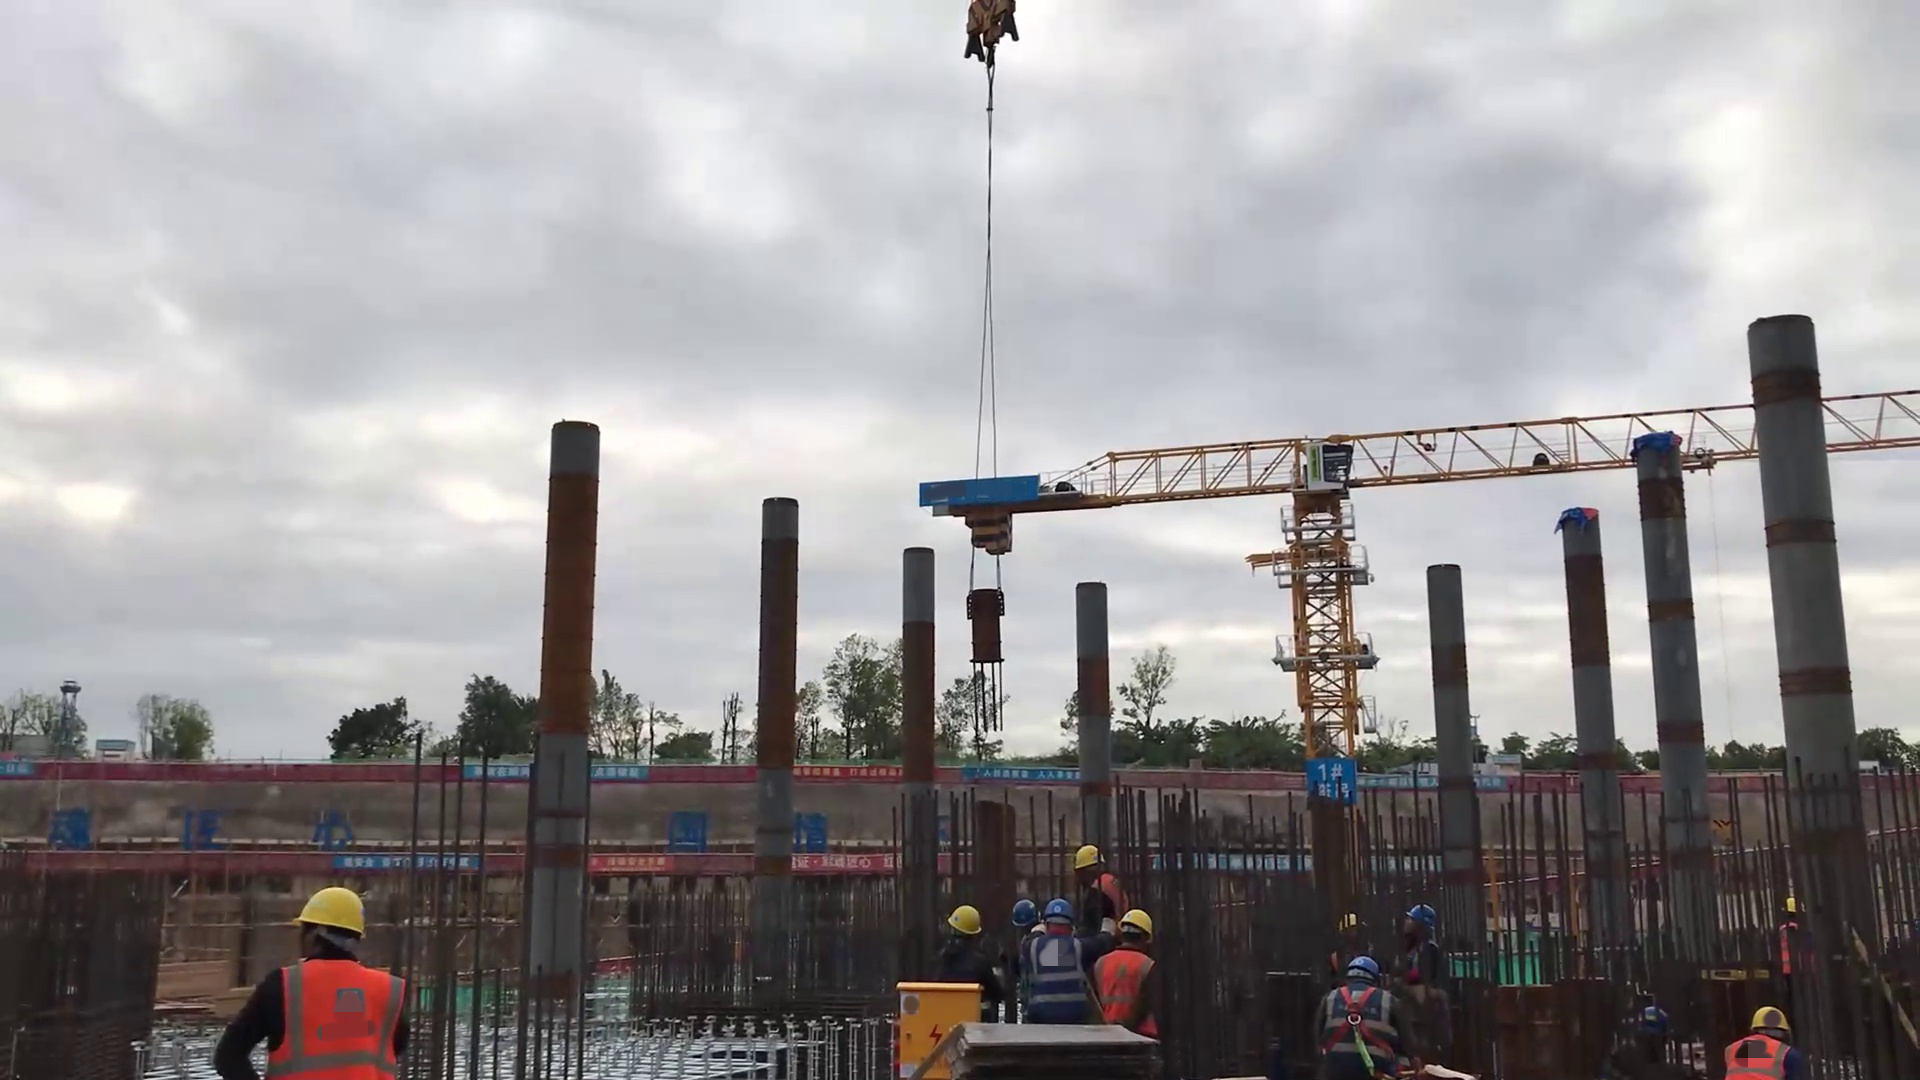board: (949, 1022, 1154, 1080)
ebox: (894, 984, 965, 1080)
helmet: (291, 876, 376, 937), (943, 894, 983, 941), (1409, 908, 1463, 938), (1121, 900, 1157, 939), (1748, 1002, 1780, 1032), (1348, 956, 1381, 985), (1080, 842, 1107, 877), (1777, 895, 1804, 928), (1043, 896, 1077, 921), (1341, 914, 1374, 937), (1009, 904, 1027, 928)
hook: (962, 1, 1018, 54)
person: (229, 881, 399, 1080), (1099, 905, 1172, 1045), (1317, 962, 1404, 1067), (1020, 893, 1085, 1015), (1717, 1009, 1798, 1080), (937, 905, 994, 995), (1603, 965, 1674, 1036), (1767, 893, 1812, 988), (1397, 899, 1443, 985), (1075, 833, 1121, 914), (1330, 903, 1378, 954), (1013, 892, 1043, 935)
vest: (261, 954, 394, 1077), (1021, 930, 1088, 1015), (1325, 989, 1389, 1061), (1104, 948, 1155, 1035), (1612, 1041, 1693, 1080), (1722, 1038, 1776, 1080), (950, 945, 994, 992), (1327, 936, 1386, 962), (1414, 941, 1441, 986), (1776, 923, 1800, 970), (1097, 875, 1128, 913)
